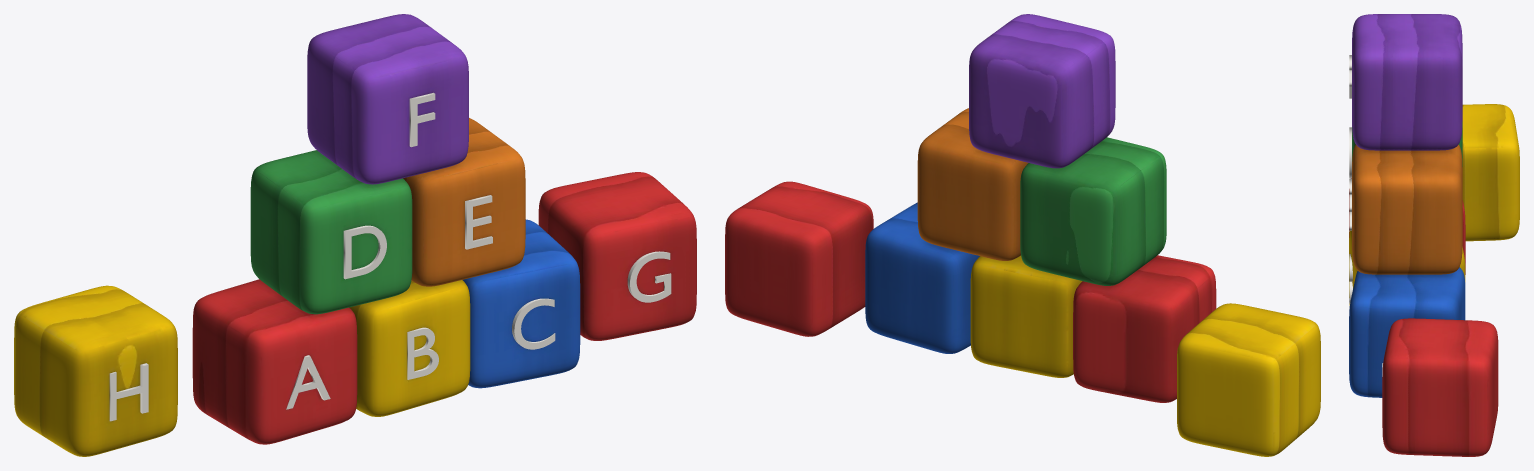
File: abc-stack.glb
The picture shows the model from 3 angles, left to right: view 1: azimuth 30°, elevation 25°; view 2: azimuth 150°, elevation 25°; view 3: azimuth 270°, elevation 25°; orthographic projection. The views are drawn at different scales.
Visible parts, largest first — view 1: block_wood_d93030, block_wood_f2c200, block_wood_8a4ac8, block_wood_3aa04a, block_wood_e07a20, block_wood_2a6ad9, letter_white; view 2: block_wood_d93030, block_wood_f2c200, block_wood_8a4ac8, block_wood_3aa04a, block_wood_2a6ad9, block_wood_e07a20; view 3: block_wood_d93030, block_wood_8a4ac8, block_wood_e07a20, block_wood_2a6ad9, block_wood_f2c200, letter_white.
Boxes of the visible parts, box(x1,y1,x2,y2) form: block_wood_d93030: box(192, 172, 696, 444); block_wood_f2c200: box(14, 280, 470, 456); block_wood_8a4ac8: box(307, 14, 468, 184); block_wood_3aa04a: box(250, 150, 412, 314); block_wood_e07a20: box(403, 118, 525, 286); block_wood_2a6ad9: box(463, 219, 580, 388); letter_white: box(109, 92, 671, 421); block_wood_d93030: box(725, 181, 1216, 402); block_wood_f2c200: box(970, 255, 1320, 456); block_wood_8a4ac8: box(969, 14, 1115, 168); block_wood_3aa04a: box(1020, 137, 1166, 285); block_wood_2a6ad9: box(865, 202, 979, 353); block_wood_e07a20: box(917, 108, 1028, 260); block_wood_d93030: box(1349, 178, 1498, 456); block_wood_8a4ac8: box(1352, 14, 1462, 150); block_wood_e07a20: box(1352, 144, 1462, 274); block_wood_2a6ad9: box(1349, 267, 1465, 397); block_wood_f2c200: box(1349, 104, 1519, 305); letter_white: box(1349, 55, 1382, 376).
Size of the model in its own units: 0.2817 by 0.15 by 0.0773.
Materials: 7 (6 with a texture image).
